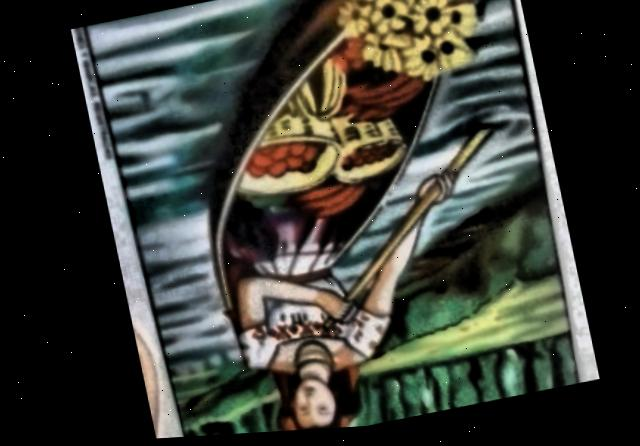La Chalupa: (83, 0, 574, 439)
